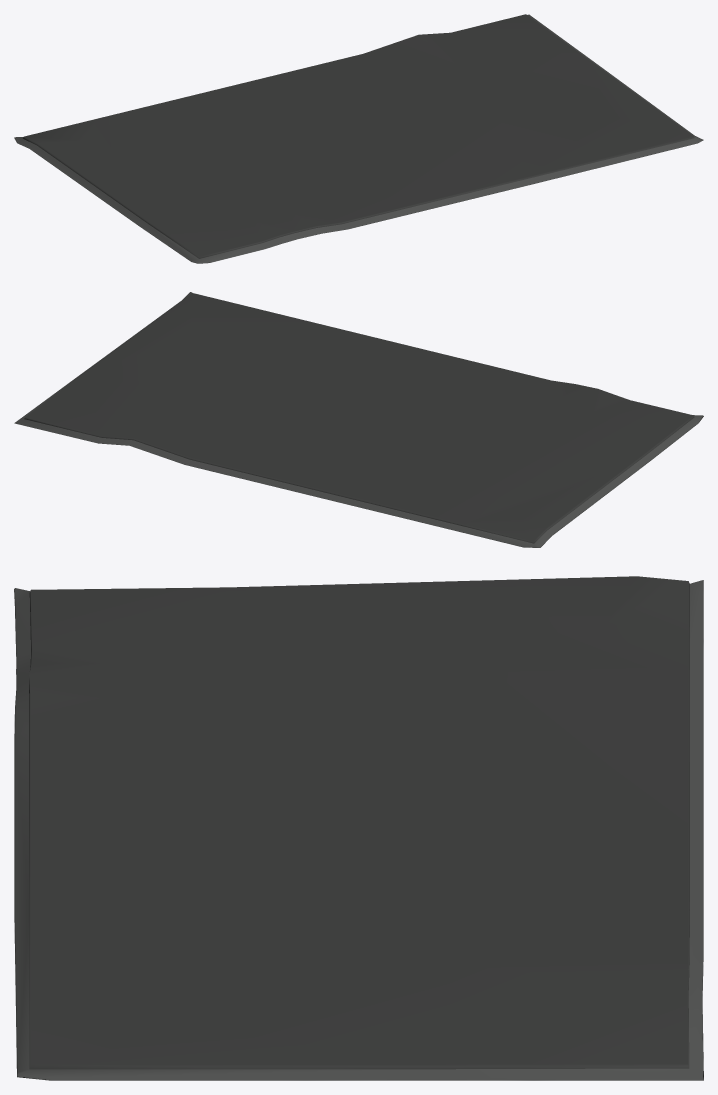
The model's file is SM_Floor_Mat_01a.glb.
3 renders of one model, top to bottom at view 1: azimuth 30°, elevation 25°; view 2: azimuth 150°, elevation 25°; view 3: azimuth 270°, elevation 25°, orthographic. The views are drawn at different scales.
Visible parts, largest first — view 1: SM_Floor_Mat_01a; view 2: SM_Floor_Mat_01a; view 3: SM_Floor_Mat_01a.
Part boxes in pixels (<box>): SM_Floor_Mat_01a: <box>14,14,703,263</box>; SM_Floor_Mat_01a: <box>14,292,703,547</box>; SM_Floor_Mat_01a: <box>14,576,703,1080</box>.
Size of the model in its own units: 1.91 by 0.0371 by 1.12.
Materials: 1 (1 with a texture image).
